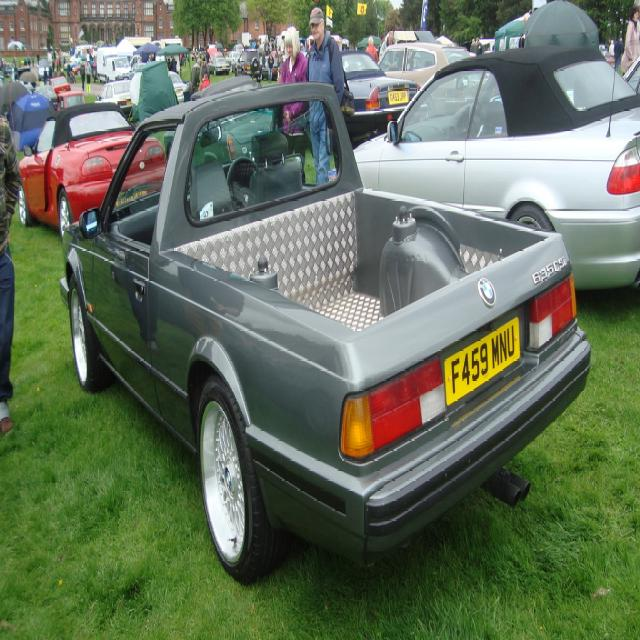other: (17, 20, 639, 564)
